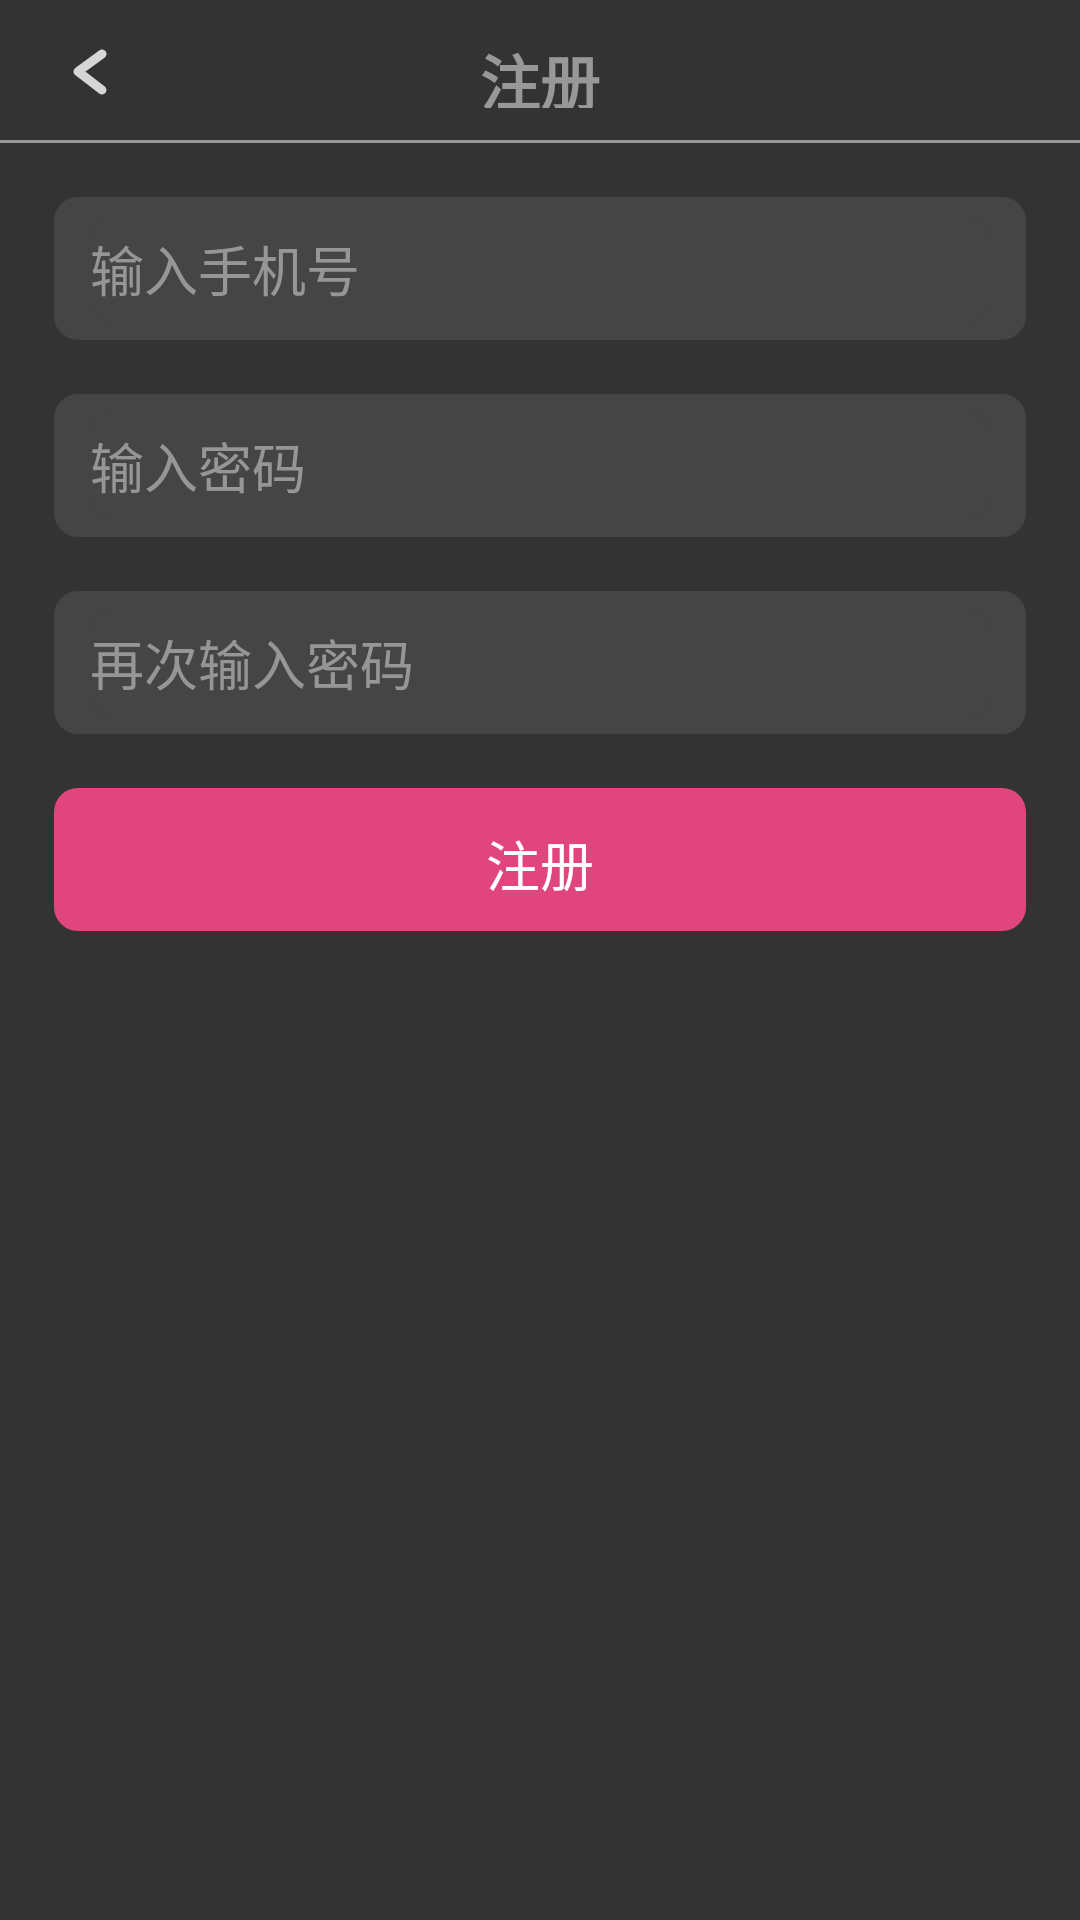

Named icons in this screenshot (1080*1920) and their centers, point (x, y):
back: point (90, 72)
